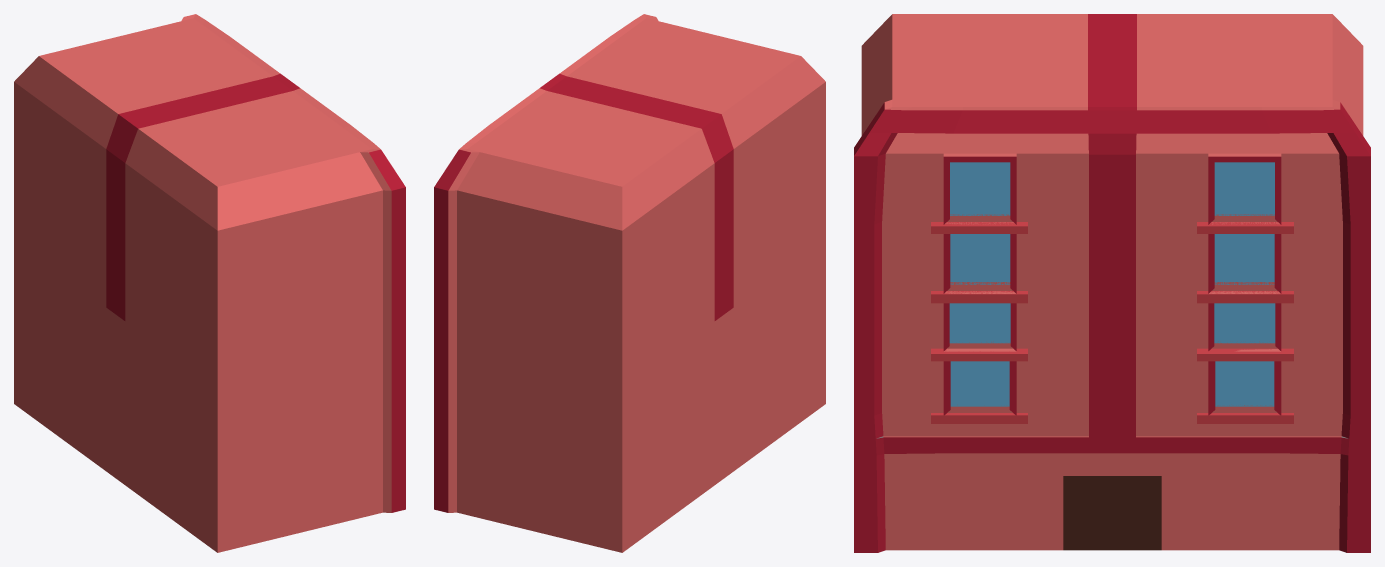
File: red short building.fbx
3 renders of one model, left to right at view 1: azimuth 30°, elevation 25°; view 2: azimuth 150°, elevation 25°; view 3: azimuth 270°, elevation 25°, orthographic. The views are drawn at different scales.
Parts seen in each view (by area): view 1: Cube; view 2: Cube; view 3: Cube.
Part boxes in pixels (x1,y1,x2,y2): Cube: (14,14,405,552); Cube: (434,14,825,552); Cube: (854,14,1370,552).
Size of the model in its own units: 3724 by 6291 by 6744.
